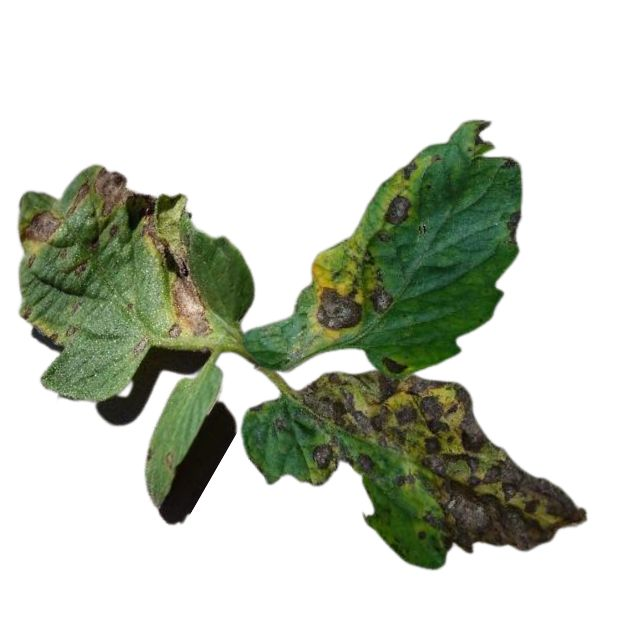Early_blight: (295, 372, 587, 554), (165, 247, 214, 340), (65, 168, 130, 218), (312, 288, 361, 331), (21, 209, 61, 244), (382, 192, 412, 226), (369, 287, 394, 314), (506, 206, 522, 245), (382, 354, 409, 374), (474, 121, 494, 144), (404, 160, 418, 180), (73, 259, 88, 276)
